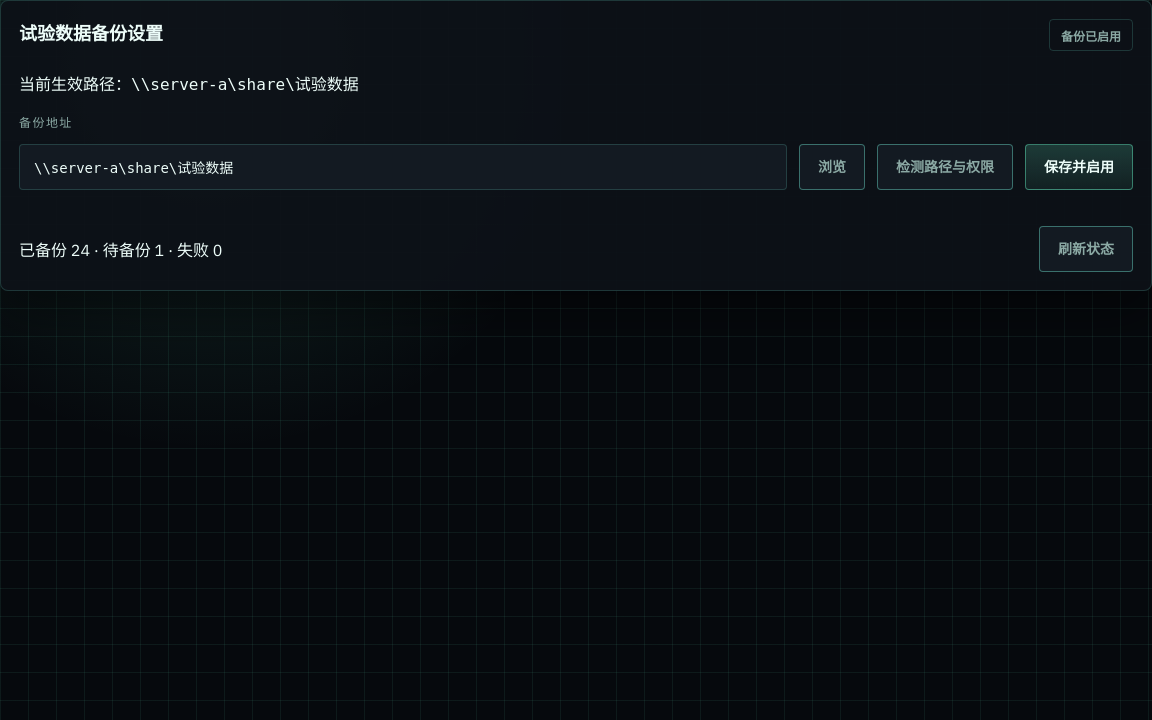
Scenario: BackupSettings › failed save keeps old configuration and explains permission failure
Replace the text in the field labelled "备份地址" with "\\\\server-b\\share\\试验数据" at (403, 167), box x1=19 y1=144 x2=787 y2=190
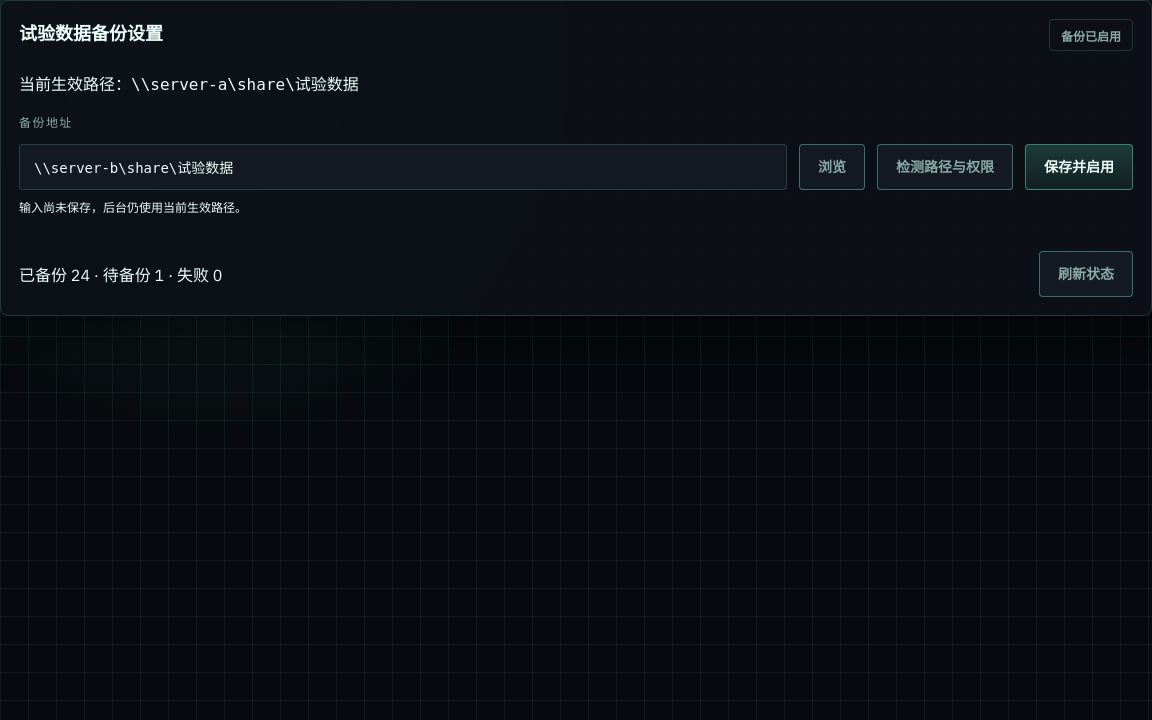
Submit the form, box x1=19 y1=113 x2=1133 y2=215
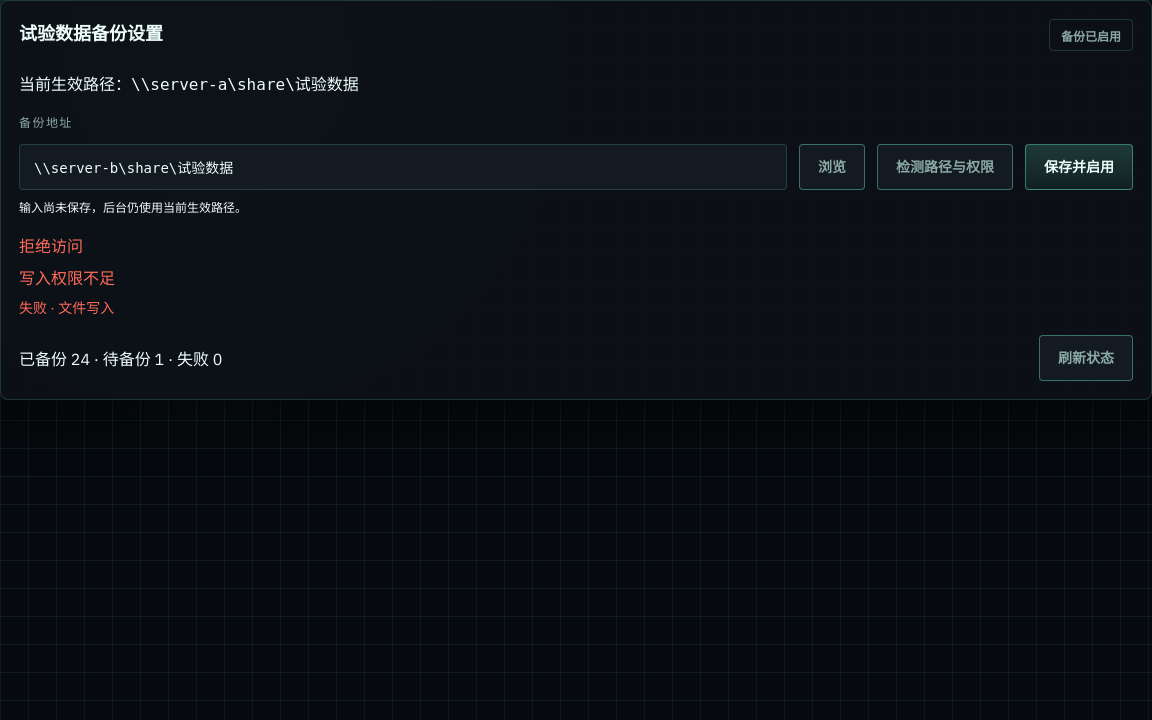
Expected: the text with test id "backup-current" reads "\\\\server-a\\share\\试验数据", x1=131 y1=75 x2=359 y2=94
Expected: the message with test id "backup-error" reads "拒绝访问", x1=19 y1=236 x2=83 y2=256
Expected: the text "失败 · 文件写入" is shown, x1=19 y1=297 x2=114 y2=317
